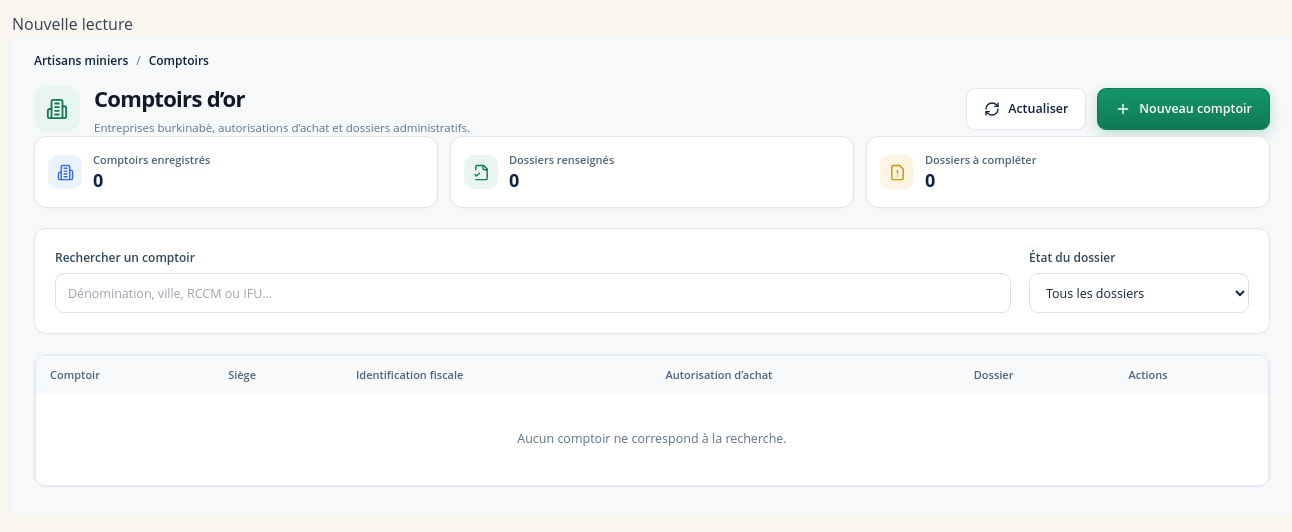
Test: Lecture du registre des comptoirs › retire les anciens compteurs quand une actualisation échoue
This screenshot has width=1292, height=532.
Check: the element named "Synthèse des comptoirs" is shown, box x1=34 y1=136 x2=1270 y2=208
Click the button "Actualiser" at {"x": 1026, "y": 109}, box x1=966 y1=88 x2=1086 y2=130
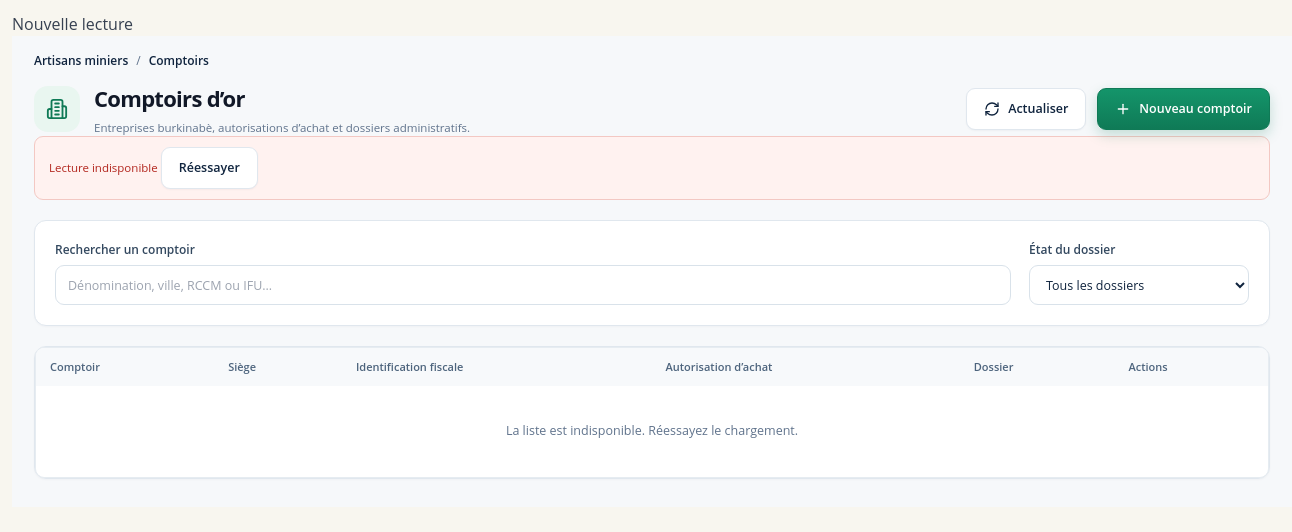
Check: the text "Lecture indisponible" is shown, box x1=49 y1=160 x2=161 y2=175
